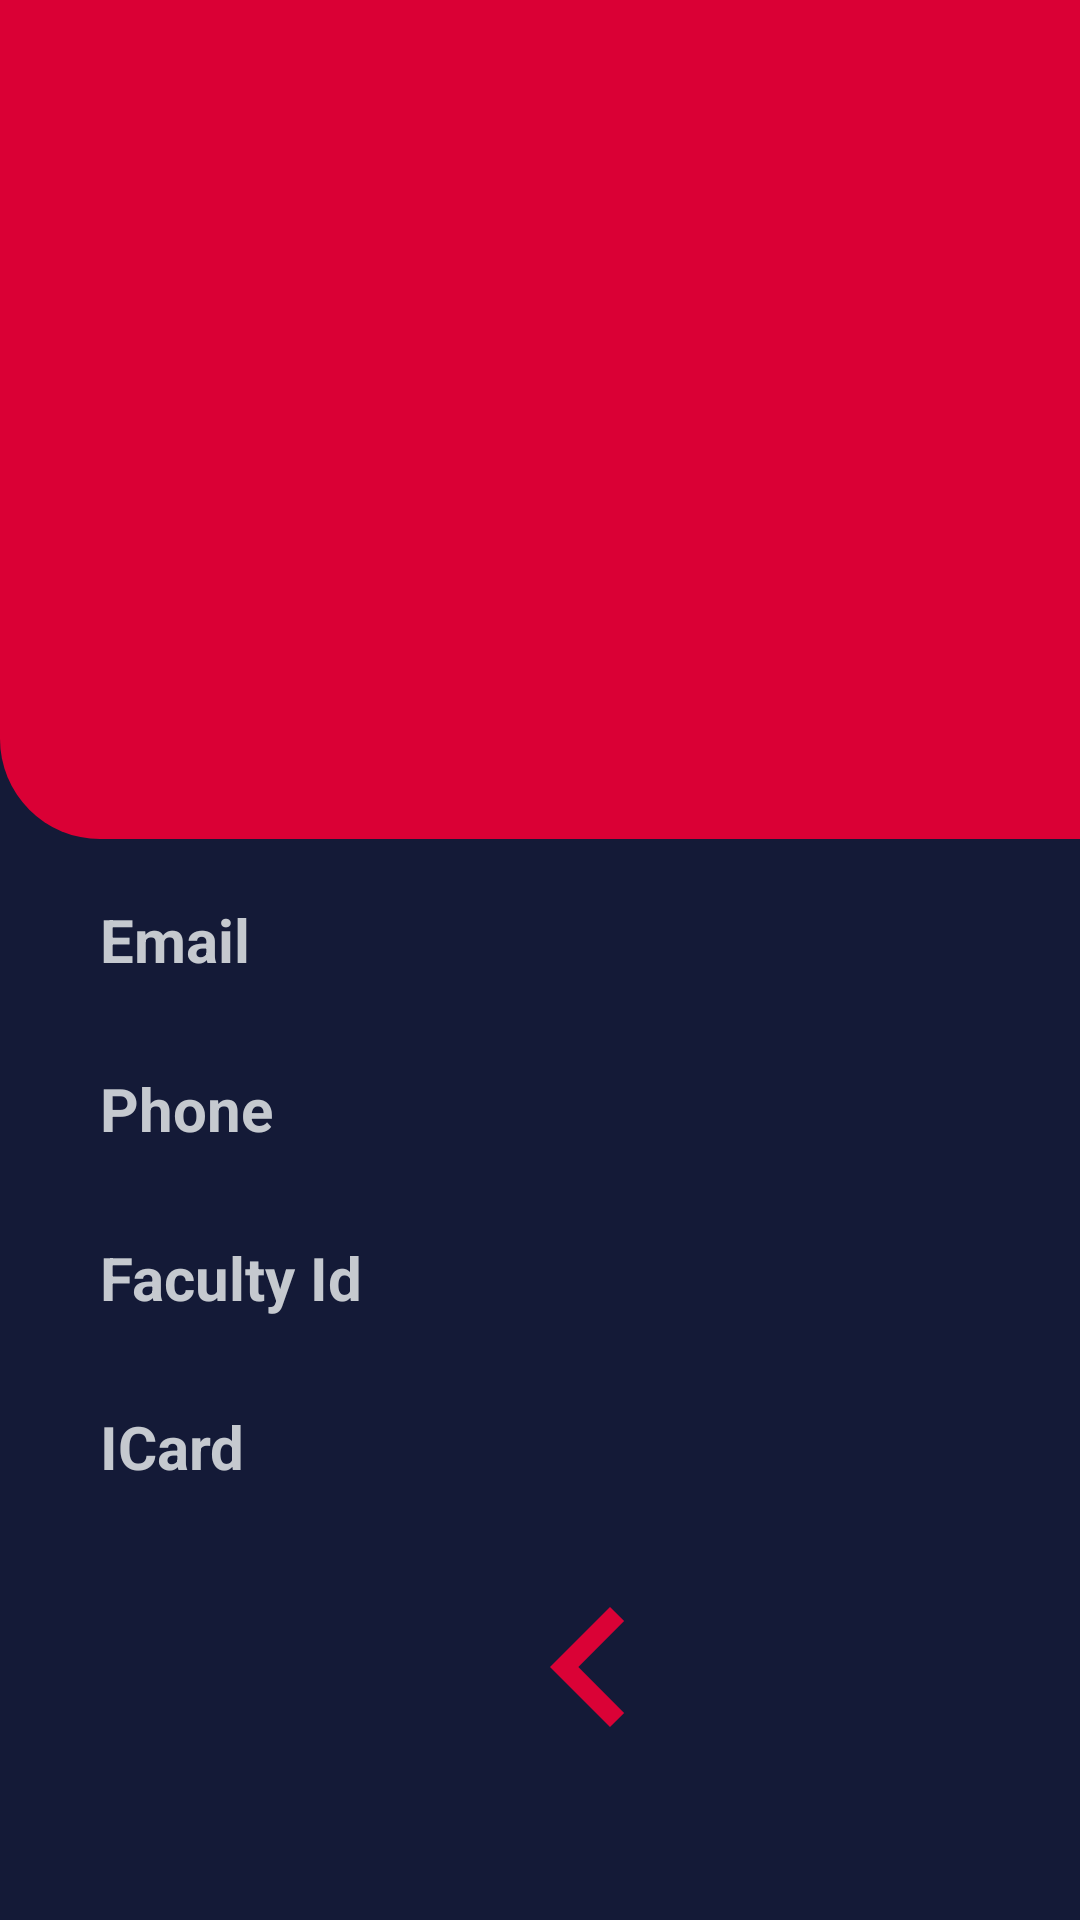

Where to tap for icons on this 1080×1920 app screen, as (x=x, y=y):
chevron left: (x=587, y=1667)
